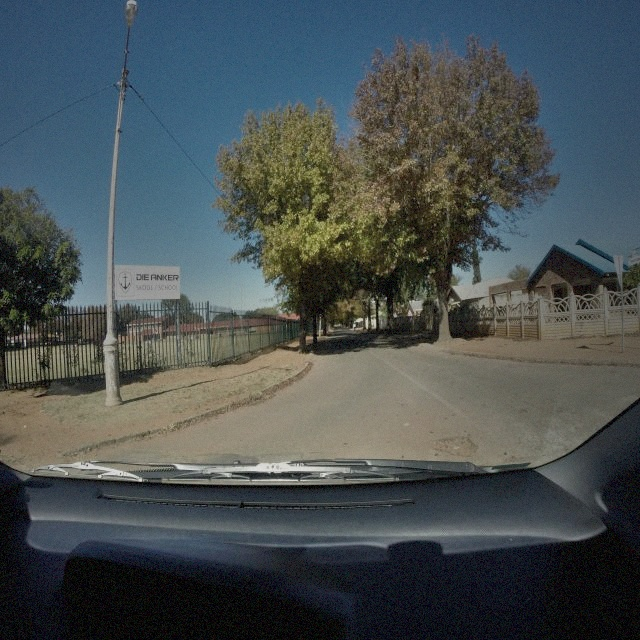pothole: (429, 432, 479, 462)
